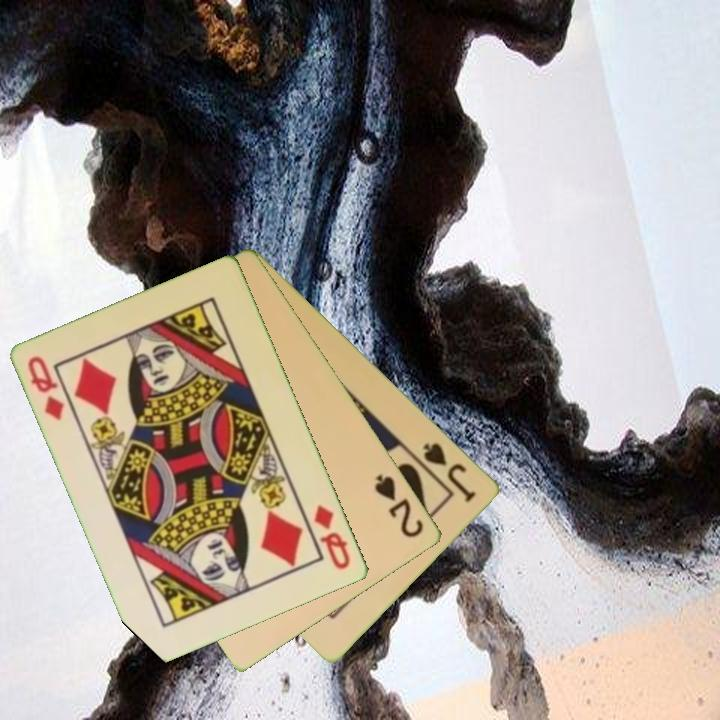2s: (371, 470, 427, 541)
Js: (419, 439, 480, 506)
Qd: (24, 352, 68, 424), (311, 501, 354, 573)
